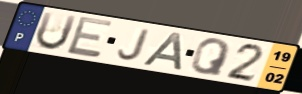2: (224, 43, 268, 84)
A: (140, 30, 185, 73)
E: (64, 15, 115, 60)
J: (116, 27, 154, 62)
Q: (189, 38, 233, 78)
U: (34, 10, 80, 51)
